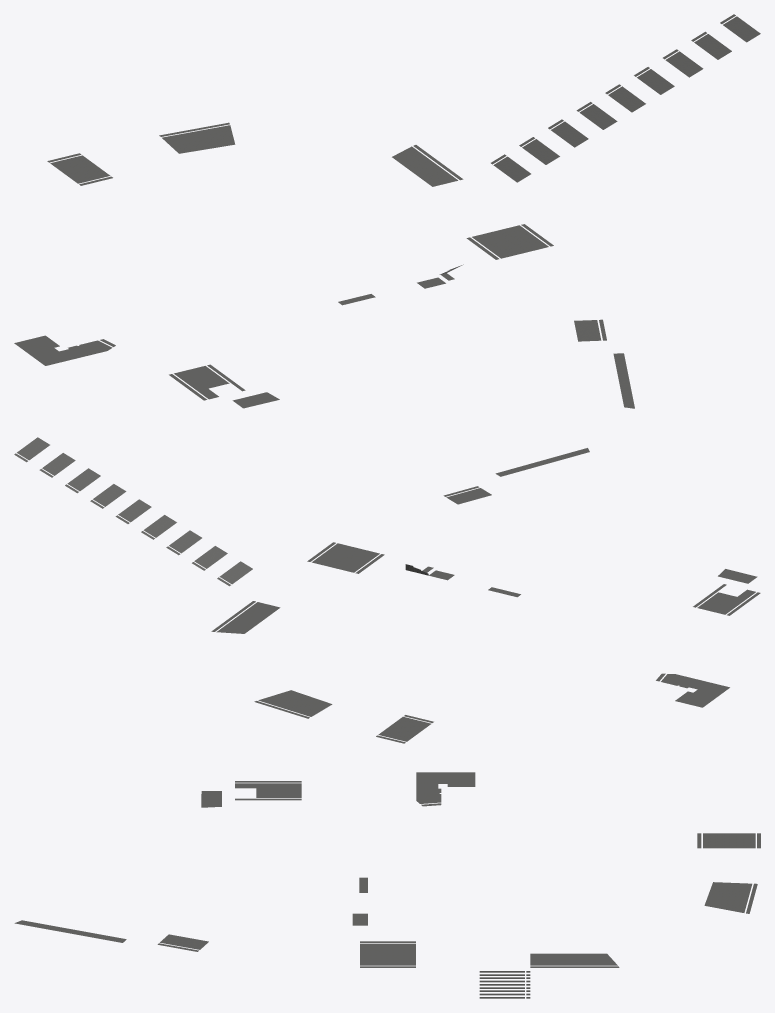
Rendered from kd_stage_135fe0_3_15_bounded.glb.
3 views of the same model, one above another, from view 1: azimuth 30°, elevation 25°; view 2: azimuth 150°, elevation 25°; view 3: azimuth 270°, elevation 25° (orthographic). The views are drawn at different scales.
Parts seen in each view (by area): view 1: kd_stage_135fe0_3_15_bounded; view 2: kd_stage_135fe0_3_15_bounded; view 3: kd_stage_135fe0_3_15_bounded.
Part boxes in pixels (<box>): kd_stage_135fe0_3_15_bounded: <box>14,14,760,408</box>; kd_stage_135fe0_3_15_bounded: <box>14,437,760,743</box>; kd_stage_135fe0_3_15_bounded: <box>14,772,760,998</box>.
Bounding box in the file's own units: 52.27 × 8.32 × 48.06.
1 material, 1 textured.
